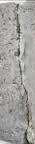Crack: (15, 1, 33, 144)
